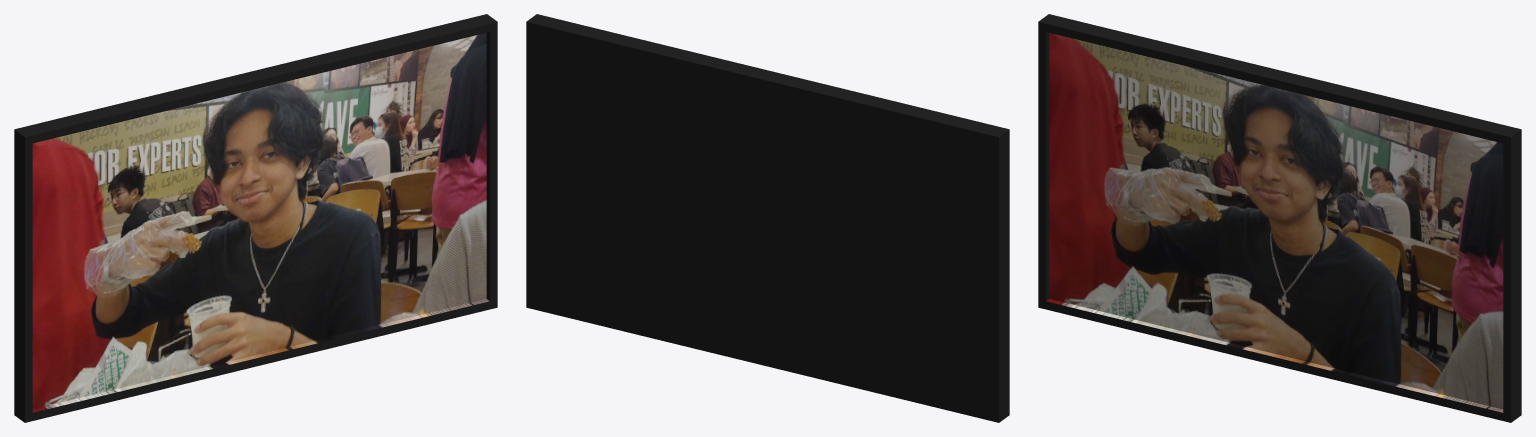
Rendered from The_Lord's_Image.fbx.
3 renders of one model, left to right at view 1: azimuth 30°, elevation 25°; view 2: azimuth 150°, elevation 25°; view 3: azimuth 330°, elevation 25°, orthographic.
Parts seen in each view (by area): view 1: The Lord's Image; view 2: The Lord's Image; view 3: The Lord's Image.
Boxes of the visible parts, bbox=[...] form: The Lord's Image: bbox=[14, 14, 497, 422]; The Lord's Image: bbox=[526, 14, 1009, 422]; The Lord's Image: bbox=[1038, 14, 1521, 422].
Bounding box in the file's own units: 184 × 106 × 7.23.
2 materials, 1 textured.
